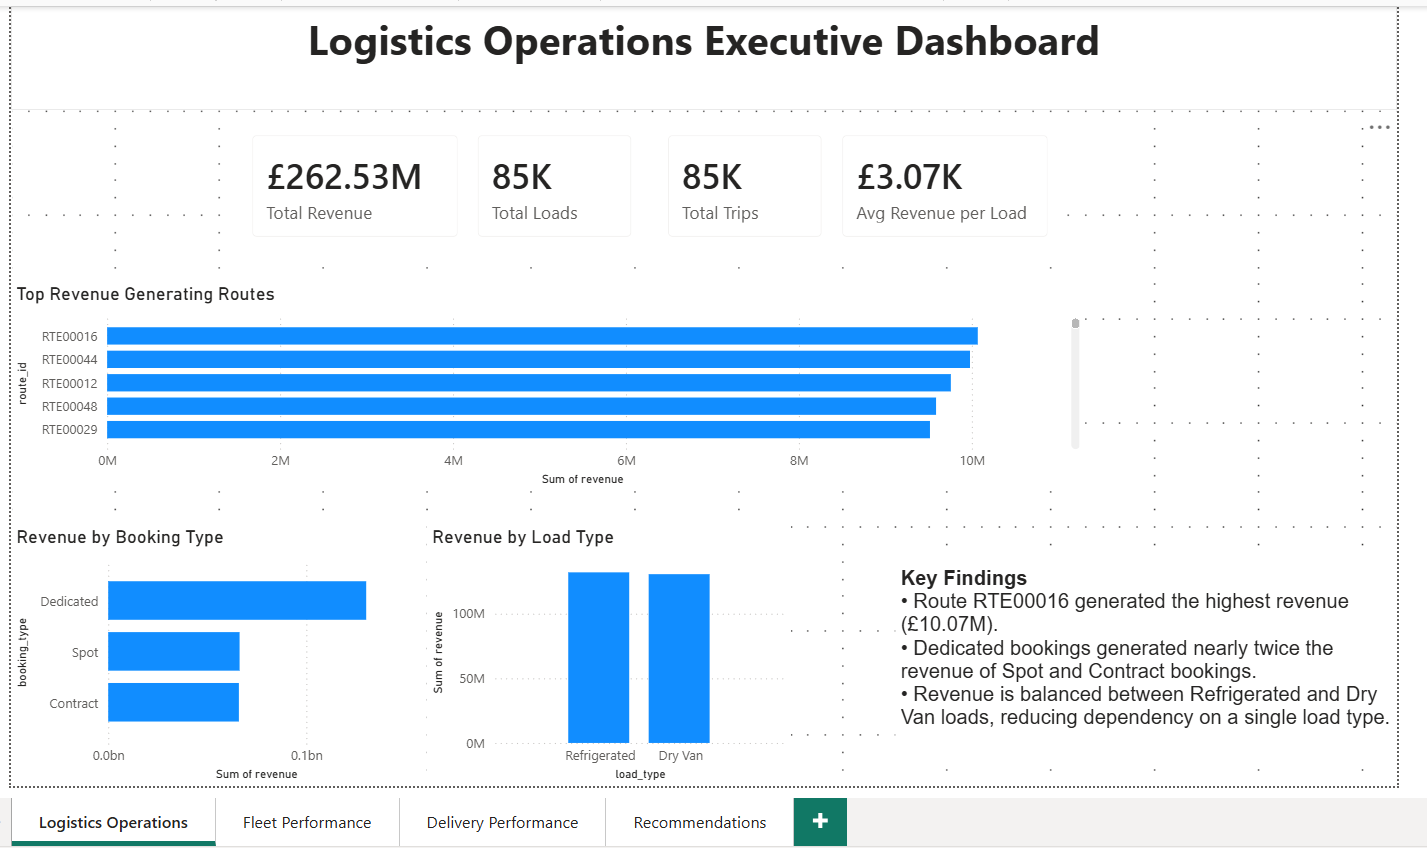

This screenshot's page, from the dashboard's own definition file:
{"tool":"powerbi","page":{"name":"Logistics Operations","canvas":[1280,720],"ordinal":0},"visuals":[{"type":"barChart","title":"Top Revenue Generating Routes","fields":{"Category":["routes.route_id"],"Y":["Sum(loads.revenue)"]},"box":[0,256,992,192],"z":0},{"type":"barChart","title":"Revenue by Booking Type","fields":{"Y":["Sum(loads.revenue)"],"Category":["loads.booking_type"]},"box":[0,480,384,240],"z":1000},{"type":"columnChart","title":"Revenue by Load Type","fields":{"Category":["loads.load_type"],"Y":["Sum(loads.revenue)"]},"box":[384,480,336,240],"z":2000},{"type":"textbox","box":[0,0,1280,96],"z":3000},{"type":"cardVisual","fields":{"Data":["loads.Avg Revenue per Load"]},"box":[750.1,102.2,224,128],"z":4000},{"type":"cardVisual","fields":{"Data":["loads.Total Revenue"]},"box":[206.1,102.2,224,128],"z":5000},{"type":"cardVisual","fields":{"Data":["loads.Total Loads"]},"box":[414.1,102.2,176,128],"z":6000},{"type":"cardVisual","fields":{"Data":["trips.Total Trips"]},"box":[590.1,102.2,176,128],"z":7000},{"type":"textbox","box":[816,512,464,192],"z":8000}]}

Visuals, with their boxes on the page's 1280x720 design canvas (x1, y1, x2, y2). These are canvas units, not pixel positions in the 1427x848 screenshot, which may show the page scaled, cropped or inside an application window:
"Top Revenue Generating Routes" barChart: select_region(0, 256, 992, 448)
"Revenue by Booking Type" barChart: select_region(0, 480, 384, 720)
"Revenue by Load Type" columnChart: select_region(384, 480, 720, 720)
textbox: select_region(0, 0, 1280, 96)
cardVisual - loads.Avg Revenue per Load: select_region(750, 102, 974, 230)
cardVisual - loads.Total Revenue: select_region(206, 102, 430, 230)
cardVisual - loads.Total Loads: select_region(414, 102, 590, 230)
cardVisual - trips.Total Trips: select_region(590, 102, 766, 230)
textbox: select_region(816, 512, 1280, 704)
